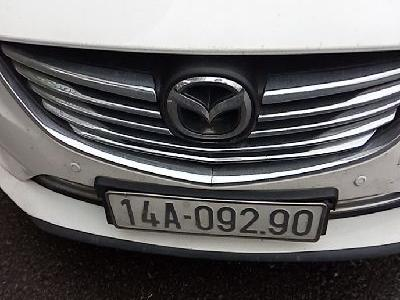car: (106, 189, 327, 244)
